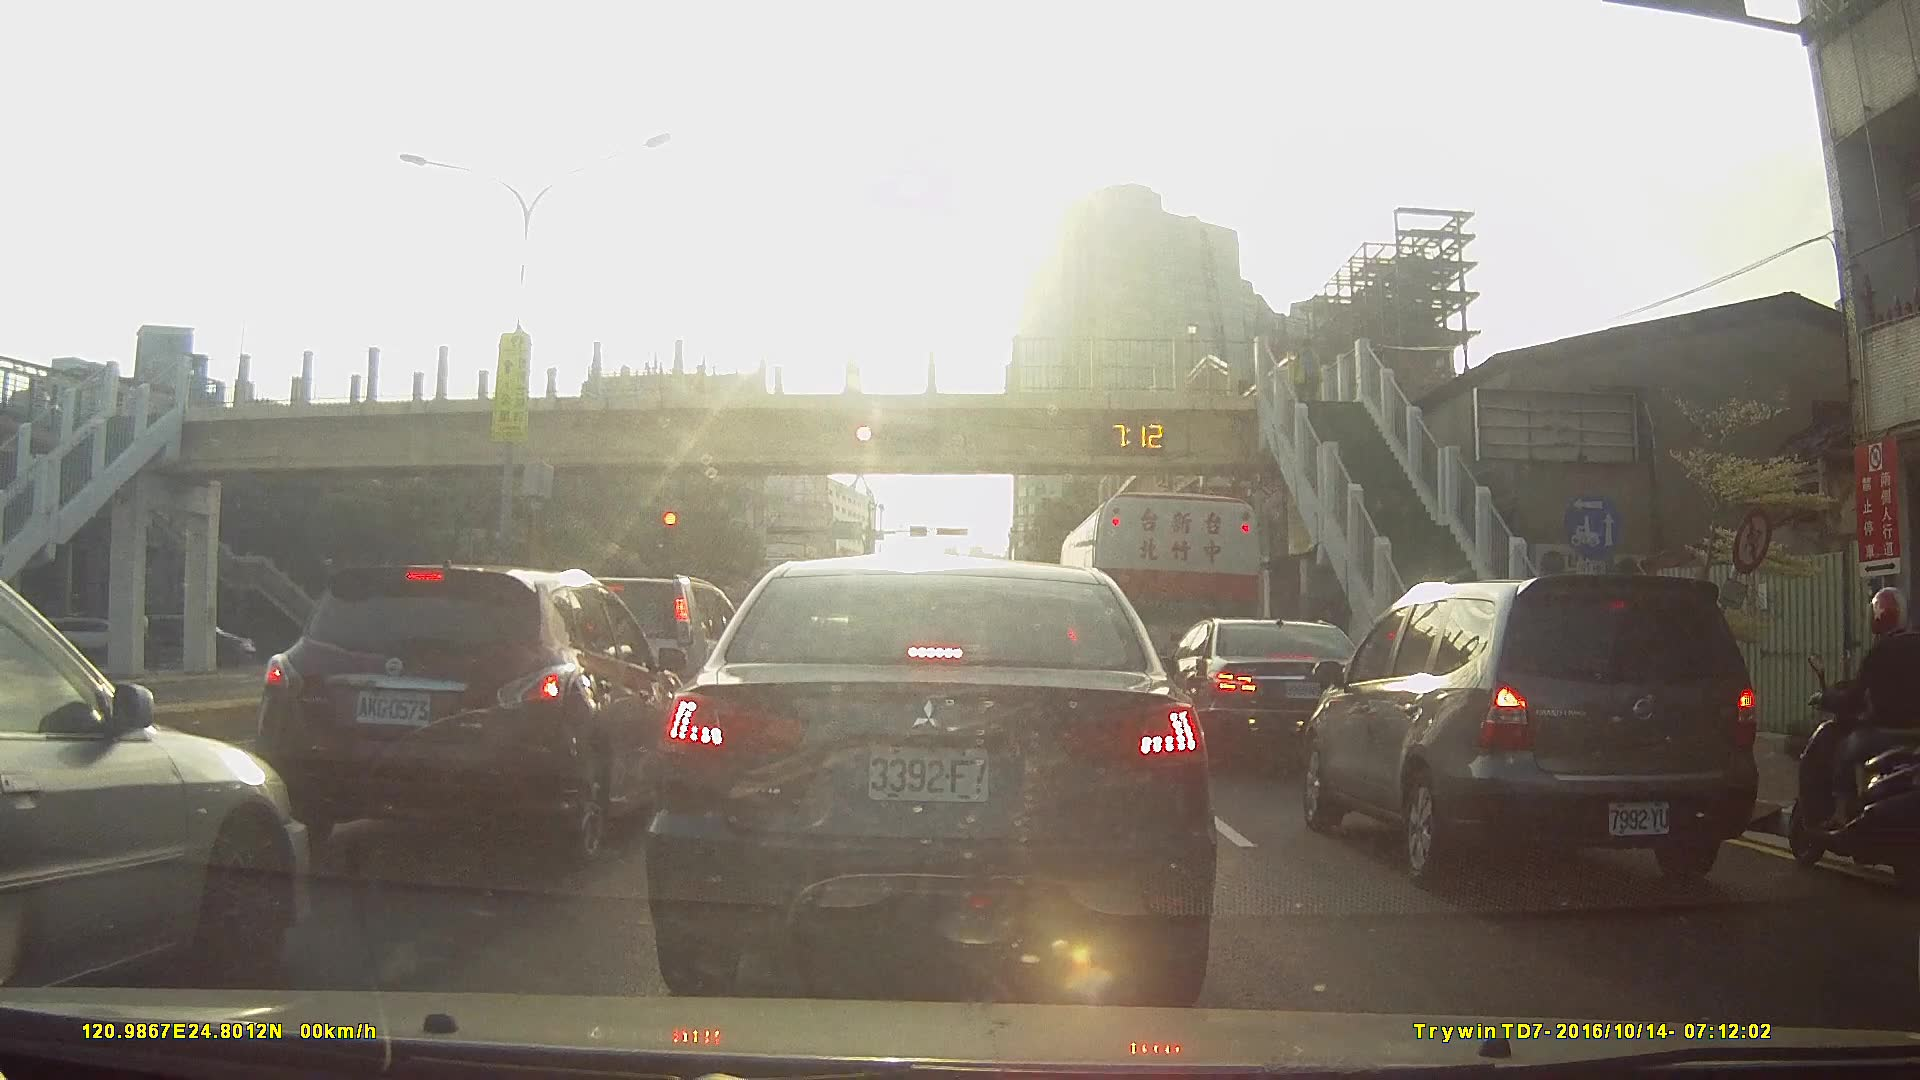pedestrian: (1296, 340, 1324, 411)
rider: (1790, 584, 1917, 886)
vehicle: (645, 553, 1221, 997), (1297, 572, 1758, 883), (250, 556, 684, 868), (0, 573, 312, 993), (1155, 615, 1379, 769), (149, 612, 266, 672)
